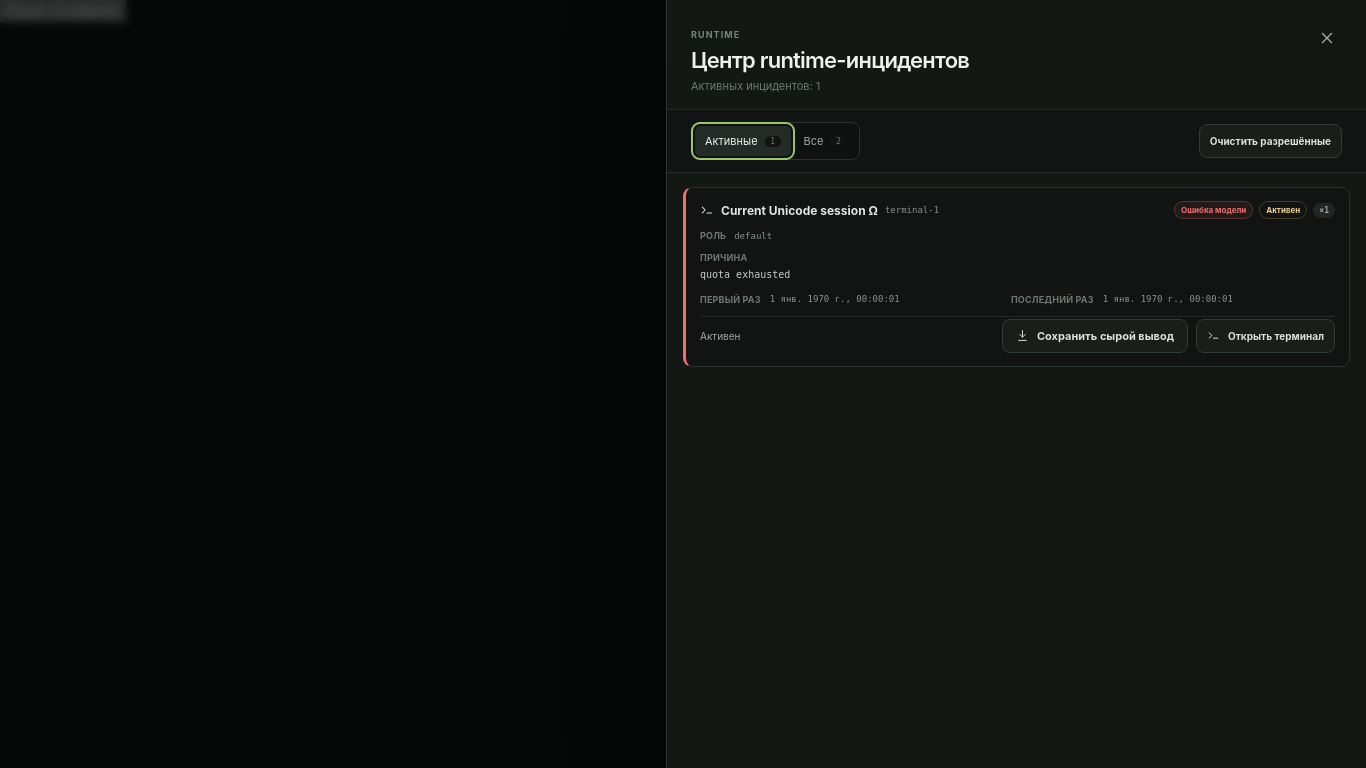
Test: Runtime Incident Center modal contract › keeps focus in the dialog after clearing resolved incidents
This screenshot has width=1366, height=768.
Click the button "Очистить разрешённые". click: click(1270, 141)
box: [1199, 124, 1342, 158]
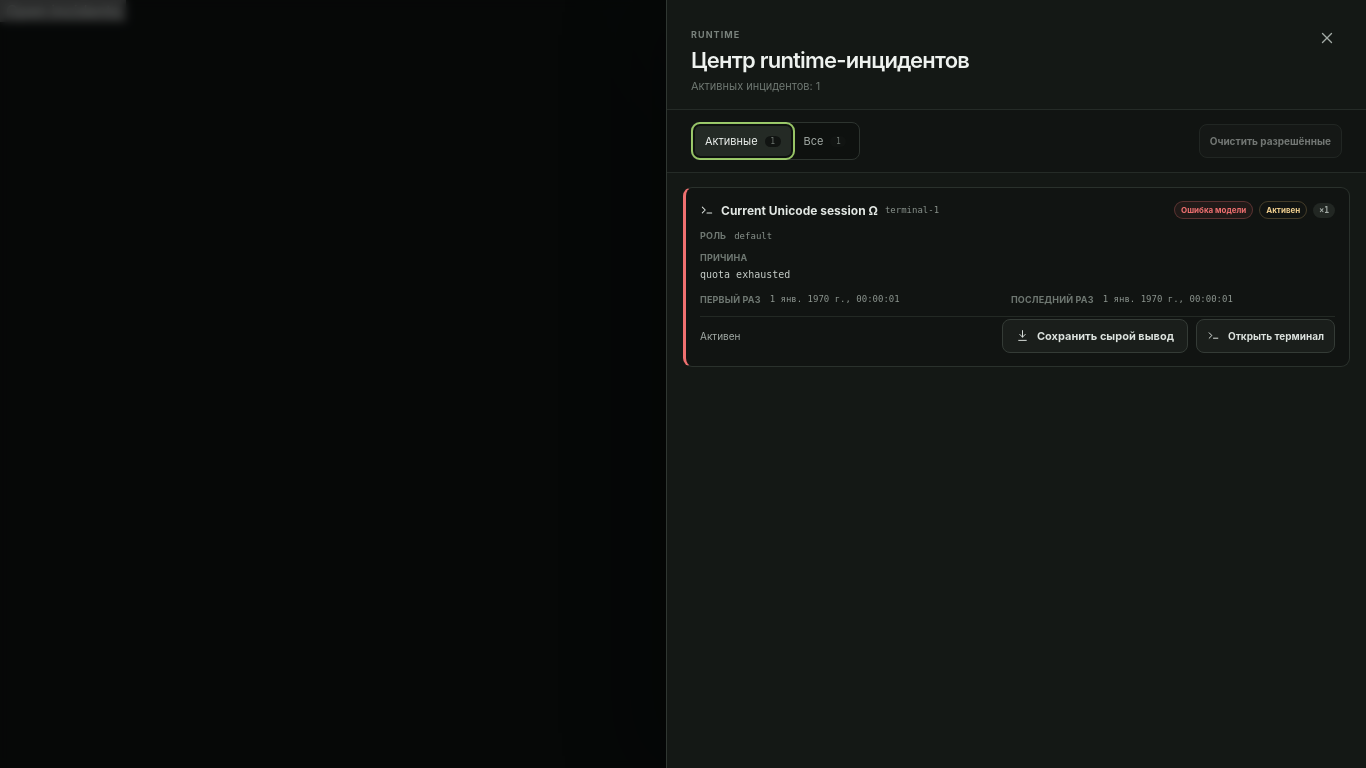
Expected: the button "Очистить разрешённые" is disabled, [1199, 124, 1342, 158]
